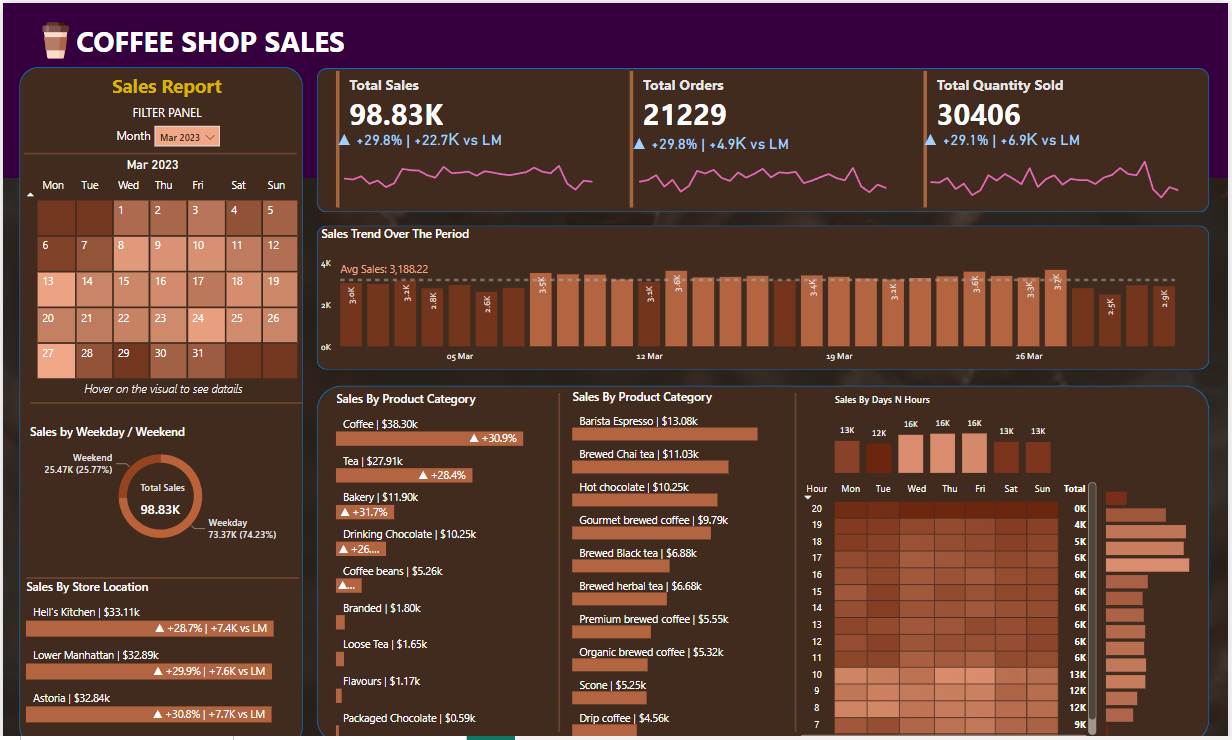

This screenshot's page, from the dashboard's own definition file:
{"tool":"powerbi","page":{"name":"Page 1","canvas":[1400,850],"ordinal":0},"visuals":[{"type":"shape","box":[0,0,1400,200],"z":0},{"type":"shape","box":[18.6,72.9,324.3,777.1],"z":1000},{"type":"shape","box":[358.8,73.8,1020,165],"z":2000},{"type":"textbox","box":[78.3,16.7,351.7,55],"z":3000},{"type":"slicer","fields":{"Values":["Date Table.Month Year"]},"box":[168.6,135.7,84.3,31.4],"z":4000},{"type":"cardVisual","fields":{"Data":["Transactions.Total Orders"]},"box":[711.6,73.2,312.5,166.2],"z":5000},{"type":"lineChart","fields":{"Category":["Date Table.Date.Variation.Date Hierarchy.Year","Date Table.Date.Variation.Date Hierarchy.Quarter","Date Table.Date.Variation.Date Hierarchy.Month","Date Table.Date.Variation.Date Hierarchy.Day"],"Y":["Transactions.Total Orders"]},"box":[712.5,150,311.2,85],"z":6000},{"type":"cardVisual","fields":{"Data":["Transactions.Total Sales"]},"box":[376.2,72.5,312.5,166.2],"z":7000},{"type":"lineChart","fields":{"Category":["Date Table.Date.Variation.Date Hierarchy.Year","Date Table.Date.Variation.Date Hierarchy.Quarter","Date Table.Date.Variation.Date Hierarchy.Month","Date Table.Date.Variation.Date Hierarchy.Day"],"Y":["Transactions.Total Sales"]},"box":[376.2,146.2,312.5,85],"z":8000},{"type":"cardVisual","fields":{"Data":["Transactions.Total Quantity Sold"]},"box":[1047,72.3,312.5,166.2],"z":9000},{"type":"lineChart","fields":{"Category":["Date Table.Date.Variation.Date Hierarchy.Year","Date Table.Date.Variation.Date Hierarchy.Quarter","Date Table.Date.Variation.Date Hierarchy.Month","Date Table.Date.Variation.Date Hierarchy.Day"],"Y":["Transactions.Total Quantity Sold"]},"box":[1046,146,312,84],"z":10000},{"type":"pivotTable","fields":{"Rows":["Date Table.Week Number"],"Columns":["Date Table.Day Name"],"Values":["Min(Date Table.Day Number)"]},"box":[17.1,192.9,327.1,253],"z":11000},{"type":"cardVisual","fields":{"Data":["Transactions.Foot Note"]},"box":[75.7,418.6,268.6,42.9],"z":12000},{"type":"cardVisual","fields":{"Data":["Min(Date Table.Month Year)"]},"box":[124.3,151.4,112.9,55.7],"z":13000},{"type":"shape","box":[31.4,445.7,311.4,22.9],"z":14000},{"type":"shape","box":[358.8,437.5,1020,410],"z":15000},{"type":"shape","box":[24.3,165.7,311.4,12.9],"z":16000},{"type":"donutChart","title":"Sales by Weekday / Weekend","fields":{"Category":["Date Table.Weekday / Weekend"],"Y":["Transactions.Total Sales"]},"box":[26.2,480,308.8,150],"z":17000},{"type":"cardVisual","fields":{"Data":["Transactions.Total Sales"]},"box":[140,530,95,67.5],"z":18000},{"type":"shape","box":[27.1,645.7,311.4,22.9],"z":19000},{"type":"clusteredBarChart","title":"Sales By Store Location","fields":{"Category":["Transactions.store_location"],"Y":["Transactions.Placeholder","Transactions.Total Sales"]},"box":[21.4,657.1,320,172.9],"z":20000},{"type":"shape","box":[358.8,253.8,1020,165],"z":21000},{"type":"columnChart","title":"Sales Trend Over The Period","fields":{"Category":["Transactions.transaction_date"],"Y":["Transactions.Total Sales"]},"box":[358.8,253.8,990,166.2],"z":22000},{"type":"clusteredBarChart","title":"Sales By Product Category","fields":{"Category":["Transactions.product_category"],"Y":["Transactions.Placeholder","Transactions.Total Sales"]},"box":[376.2,442.5,250,405],"z":23000},{"type":"shape","box":[626.2,446.2,20,387.5],"z":24000},{"type":"clusteredBarChart","title":"Sales By Product Category","fields":{"Category":["Transactions.product_type"],"Y":["Transactions.Placeholder","Transactions.Total Sales"]},"box":[646.2,440,250,405],"z":25000},{"type":"shape","box":[896.2,445,20,387.5],"z":26000},{"type":"pivotTable","fields":{"Rows":["Transactions.Hour"],"Columns":["Date Table.Day Name"],"Values":["Transactions.Total Sales"]},"box":[906.2,542.5,348.8,307.5],"z":27000},{"type":"barChart","fields":{"Category":["Transactions.Hour"],"Y":["Transactions.Total Sales"]},"box":[1255,545,123.8,300],"z":28000},{"type":"clusteredColumnChart","title":"Sales By Days N Hours","fields":{"Y":["Transactions.Total Sales"],"Category":["Date Table.Day Name"]},"box":[946.2,445,257.5,97.5],"z":29000},{"type":"textbox","box":[124.2,136.7,59.2,30.8],"z":30000},{"type":"textbox","box":[142.5,111.2,110,31.2],"z":31000},{"type":"textbox","box":[31.2,73.8,243.8,53.8],"z":32000},{"type":"image","box":[25,16.7,68.3,51.7],"z":33000}]}

Visuals, with their boxes in screenshot pixels (x1, y1, x2, y2), scaled from the page's 1400x850 canvas onto the 1232x740 screenshot:
shape: x1=0, y1=0, x2=1231, y2=174
shape: x1=16, y1=63, x2=302, y2=739
shape: x1=316, y1=64, x2=1213, y2=208
textbox: x1=69, y1=15, x2=378, y2=62
slicer - Date Table.Month Year: x1=148, y1=118, x2=223, y2=145
cardVisual - Transactions.Total Orders: x1=626, y1=64, x2=901, y2=208
lineChart - Date Table.Date.Variation.Date Hierarchy.Year x Date Table.Date.Variation.Date Hierarchy.Quarter: x1=627, y1=131, x2=901, y2=205
cardVisual - Transactions.Total Sales: x1=331, y1=63, x2=606, y2=208
lineChart - Date Table.Date.Variation.Date Hierarchy.Year x Date Table.Date.Variation.Date Hierarchy.Quarter: x1=331, y1=127, x2=606, y2=201
cardVisual - Transactions.Total Quantity Sold: x1=921, y1=63, x2=1196, y2=208
lineChart - Date Table.Date.Variation.Date Hierarchy.Year x Date Table.Date.Variation.Date Hierarchy.Quarter: x1=920, y1=127, x2=1195, y2=200
pivotTable - Date Table.Week Number x Date Table.Day Name: x1=15, y1=168, x2=303, y2=388
cardVisual - Transactions.Foot Note: x1=67, y1=364, x2=303, y2=402
cardVisual - Min(Date Table.Month Year): x1=109, y1=132, x2=209, y2=180
shape: x1=28, y1=388, x2=302, y2=408
shape: x1=316, y1=381, x2=1213, y2=738
shape: x1=21, y1=144, x2=295, y2=155
"Sales by Weekday / Weekend" donutChart: x1=23, y1=418, x2=295, y2=548
cardVisual - Transactions.Total Sales: x1=123, y1=461, x2=207, y2=520
shape: x1=24, y1=562, x2=298, y2=582
"Sales By Store Location" clusteredBarChart: x1=19, y1=572, x2=300, y2=723
shape: x1=316, y1=221, x2=1213, y2=365
"Sales Trend Over The Period" columnChart: x1=316, y1=221, x2=1187, y2=366
"Sales By Product Category" clusteredBarChart: x1=331, y1=385, x2=551, y2=738
shape: x1=551, y1=388, x2=569, y2=726
"Sales By Product Category" clusteredBarChart: x1=569, y1=383, x2=789, y2=736
shape: x1=789, y1=387, x2=806, y2=725
pivotTable - Transactions.Hour x Date Table.Day Name: x1=797, y1=472, x2=1104, y2=739
barChart - Transactions.Hour x Transactions.Total Sales: x1=1104, y1=474, x2=1213, y2=736
"Sales By Days N Hours" clusteredColumnChart: x1=833, y1=387, x2=1059, y2=472
textbox: x1=109, y1=119, x2=161, y2=146
textbox: x1=125, y1=97, x2=222, y2=124
textbox: x1=27, y1=64, x2=242, y2=111
image: x1=22, y1=15, x2=82, y2=60
